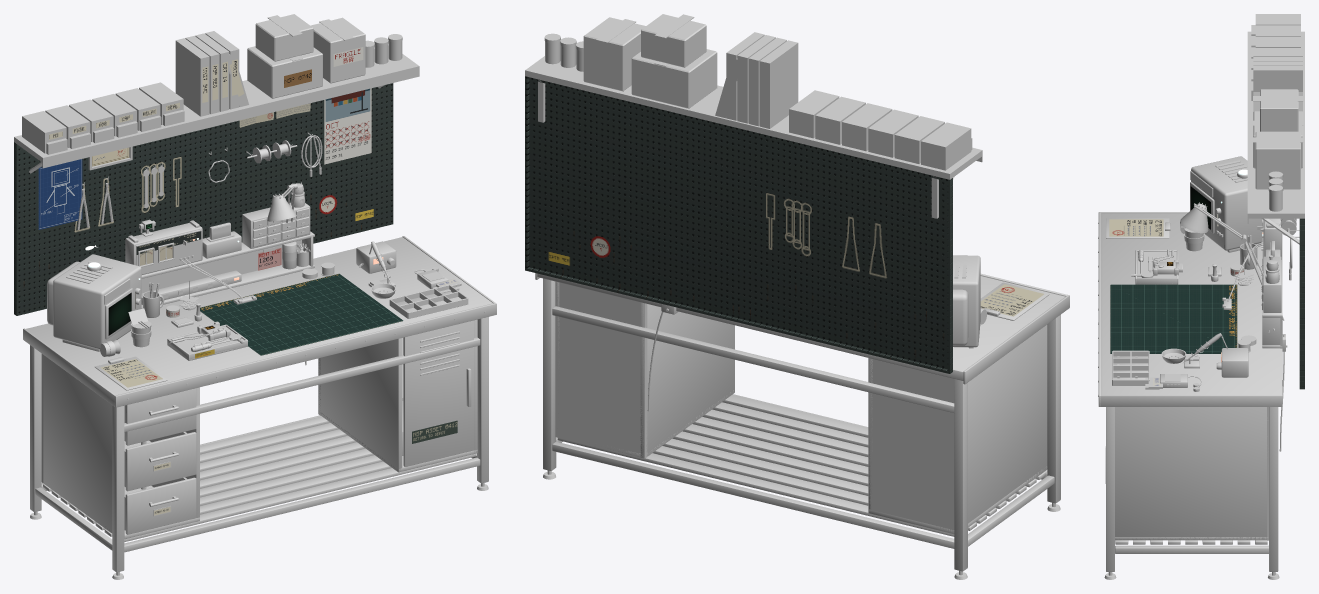
The model's file is RepairBenchV2.fbx.
3 renders of one model, left to right at view 1: azimuth 30°, elevation 25°; view 2: azimuth 150°, elevation 25°; view 3: azimuth 270°, elevation 25°, orthographic. The views are drawn at different scales.
Visible parts, largest first — view 1: BV2_Pegboard, BV2_Frame, BV2_ShelfGoods, BV2_Top, BV2_Pedestal, BV2_Mat, BV2_WallPrints, BV2_Cabinet, BV2_CabinetDoor, BV2_WallShelf, BV2_TopLip, BV2_Crt (+16 smaller); view 2: BV2_Pegboard, BV2_Frame, BV2_ShelfGoods, BV2_Pedestal, BV2_Cabinet, BV2_WallShelf, BV2_Top, BV2_Crt, BV2_TopLip, BV2_WorkOrder; view 3: BV2_Cabinet, BV2_Top, BV2_ShelfGoods, BV2_Mat, BV2_Frame, BV2_Crt, BV2_TopLip, BV2_WallShelf, BV2_PartsTray, BV2_Pegboard, BV2_ToolTray, BV2_WorkOrder (+15 smaller).
Part boxes in pixels (x1=…): BV2_Pegboard: x1=14, y1=83, x2=393, y2=315; BV2_Frame: x1=30, y1=317, x2=488, y2=572; BV2_ShelfGoods: x1=22, y1=14, x2=402, y2=154; BV2_Top: x1=26, y1=237, x2=492, y2=395; BV2_Pedestal: x1=41, y1=354, x2=199, y2=539; BV2_Mat: x1=200, y1=273, x2=403, y2=355; BV2_WallPrints: x1=38, y1=47, x2=371, y2=229; BV2_Cabinet: x1=318, y1=319, x2=477, y2=472; BV2_CabinetDoor: x1=403, y1=320, x2=473, y2=466; BV2_WallShelf: x1=14, y1=46, x2=419, y2=173; BV2_TopLip: x1=23, y1=236, x2=496, y2=407; BV2_Crt: x1=47, y1=254, x2=141, y2=351; BV2_Pegboard: x1=525, y1=76, x2=952, y2=373; BV2_Frame: x1=543, y1=278, x2=1060, y2=571; BV2_ShelfGoods: x1=544, y1=14, x2=972, y2=170; BV2_Pedestal: x1=868, y1=325, x2=1047, y2=534; BV2_Cabinet: x1=555, y1=281, x2=734, y2=458; BV2_WallShelf: x1=525, y1=56, x2=982, y2=218; BV2_Top: x1=537, y1=273, x2=1064, y2=380; BV2_Crt: x1=953, y1=255, x2=980, y2=348; BV2_TopLip: x1=535, y1=273, x2=1069, y2=384; BV2_WorkOrder: x1=980, y1=284, x2=1043, y2=316; BV2_Cabinet: x1=1115, y1=407, x2=1268, y2=540; BV2_Top: x1=1101, y1=213, x2=1282, y2=395; BV2_ShelfGoods: x1=1251, y1=14, x2=1303, y2=211; BV2_Mat: x1=1110, y1=284, x2=1237, y2=353; BV2_Frame: x1=1106, y1=407, x2=1278, y2=571; BV2_Crt: x1=1190, y1=156, x2=1262, y2=252; BV2_TopLip: x1=1098, y1=212, x2=1282, y2=406; BV2_WallShelf: x1=1247, y1=31, x2=1304, y2=244; BV2_PartsTray: x1=1112, y1=350, x2=1149, y2=385; BV2_Pegboard: x1=1299, y1=218, x2=1304, y2=389; BV2_ToolTray: x1=1135, y1=250, x2=1178, y2=284; BV2_WorkOrder: x1=1109, y1=219, x2=1163, y2=236.
Bounding box in the file's own units: 1.92 × 2.07 × 0.913.
